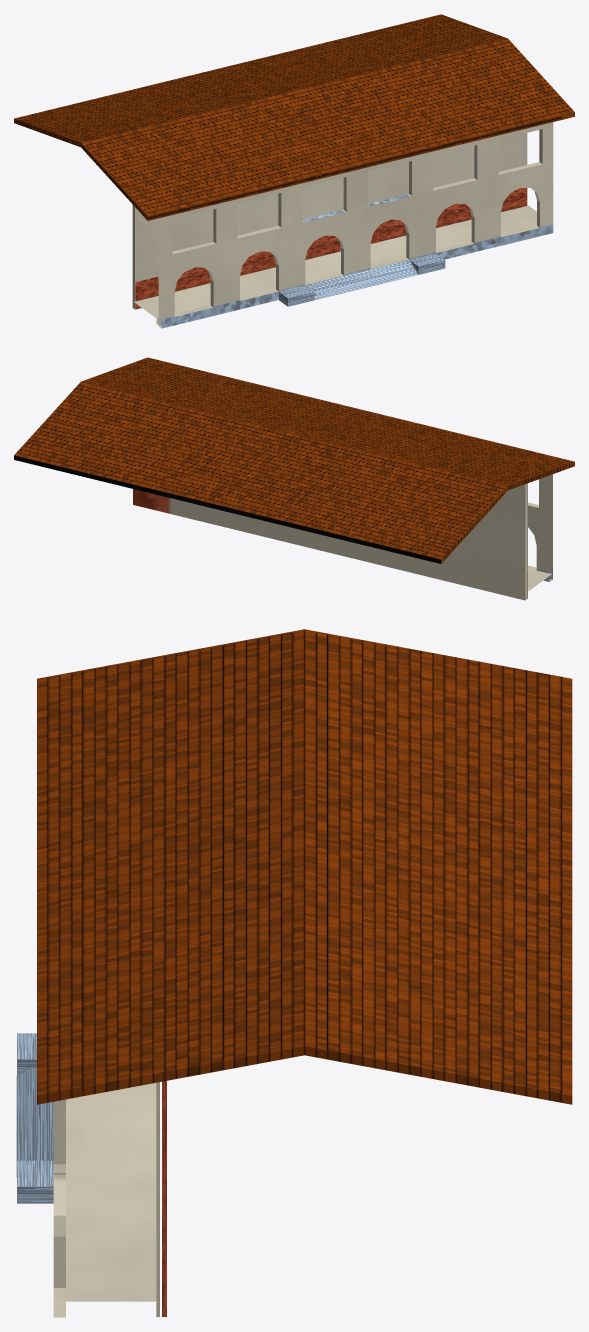
The model's file is corredor.fbx.
3 renders of one model, top to bottom at view 1: azimuth 30°, elevation 25°; view 2: azimuth 150°, elevation 25°; view 3: azimuth 270°, elevation 25°, orthographic. The views are drawn at different scales.
Parts seen in each view (by area): view 1: if.012, if.011; view 2: if.012, if.011; view 3: if.012, if.011.
Part boxes in pixels (x1,y1,x2,y2): if.012: (14, 14, 574, 220); if.011: (132, 122, 553, 328); if.012: (14, 357, 574, 563); if.011: (133, 474, 552, 600); if.012: (37, 629, 572, 1104); if.011: (16, 1033, 166, 1317).
Size of the model in its own units: 3527 by 1139 by 1985.
2 materials, 2 textured.
